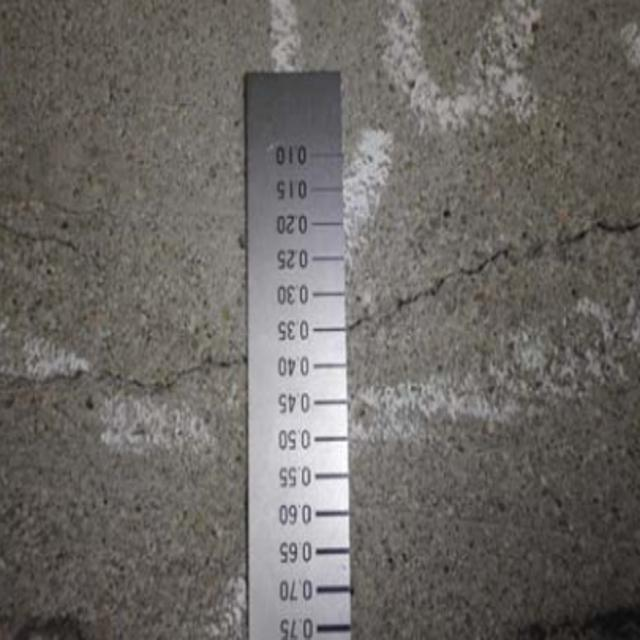crack: (360, 213, 637, 338), (8, 348, 243, 393)
